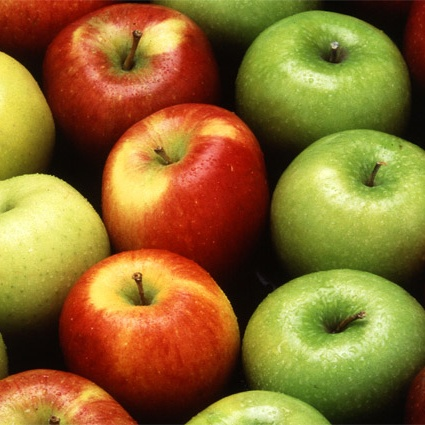apple: (57, 251, 243, 413), (101, 103, 273, 277), (237, 269, 425, 416), (236, 9, 412, 156), (42, 0, 218, 142), (271, 125, 425, 281), (0, 371, 135, 425)
